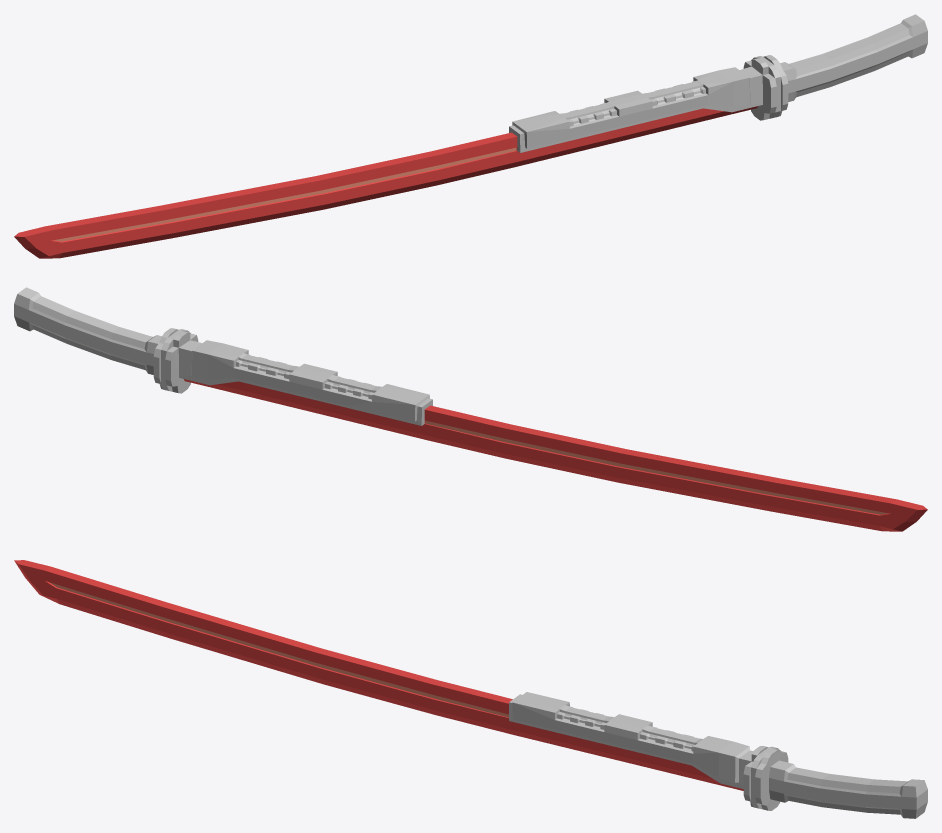
File: SM_Sci_FiWeapon_Katana.fbx
3 views of the same model, one above another, from view 1: azimuth 30°, elevation 25°; view 2: azimuth 150°, elevation 25°; view 3: azimuth 330°, elevation 25° (orthographic).
Visible parts, largest first — view 1: SM_Sci_FiWeapon_Katana; view 2: SM_Sci_FiWeapon_Katana; view 3: SM_Sci_FiWeapon_Katana.
Boxes of the visible parts, x1,y1,x2,y2 form: SM_Sci_FiWeapon_Katana: [14, 14, 927, 258]; SM_Sci_FiWeapon_Katana: [14, 287, 927, 531]; SM_Sci_FiWeapon_Katana: [14, 560, 927, 818].
Bounding box in the file's own units: 194 × 12.89 × 10.19.
